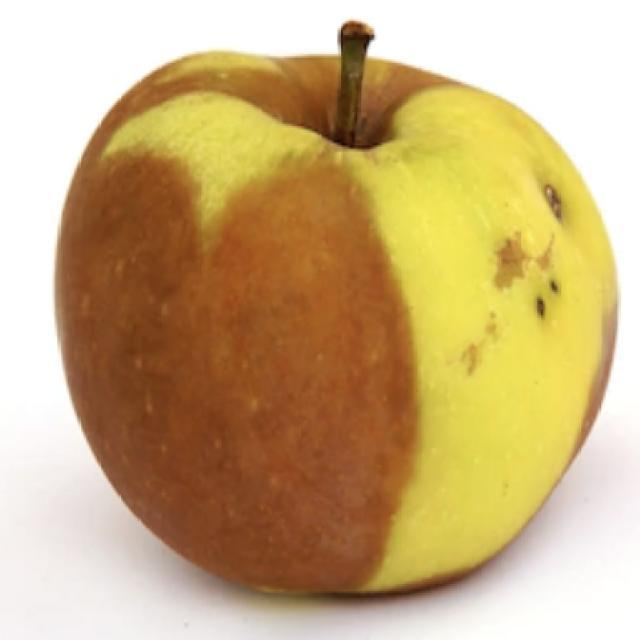Rotten: (52, 44, 620, 604)
